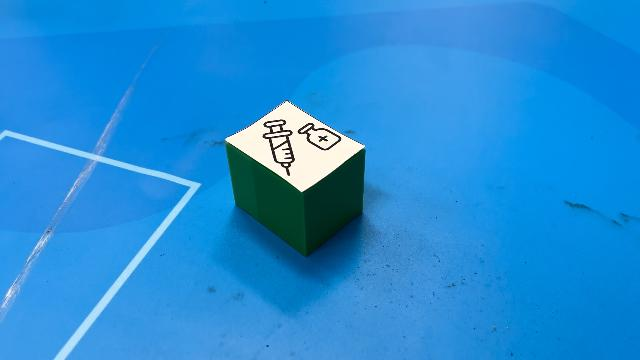syringe: (226, 103, 366, 255)
